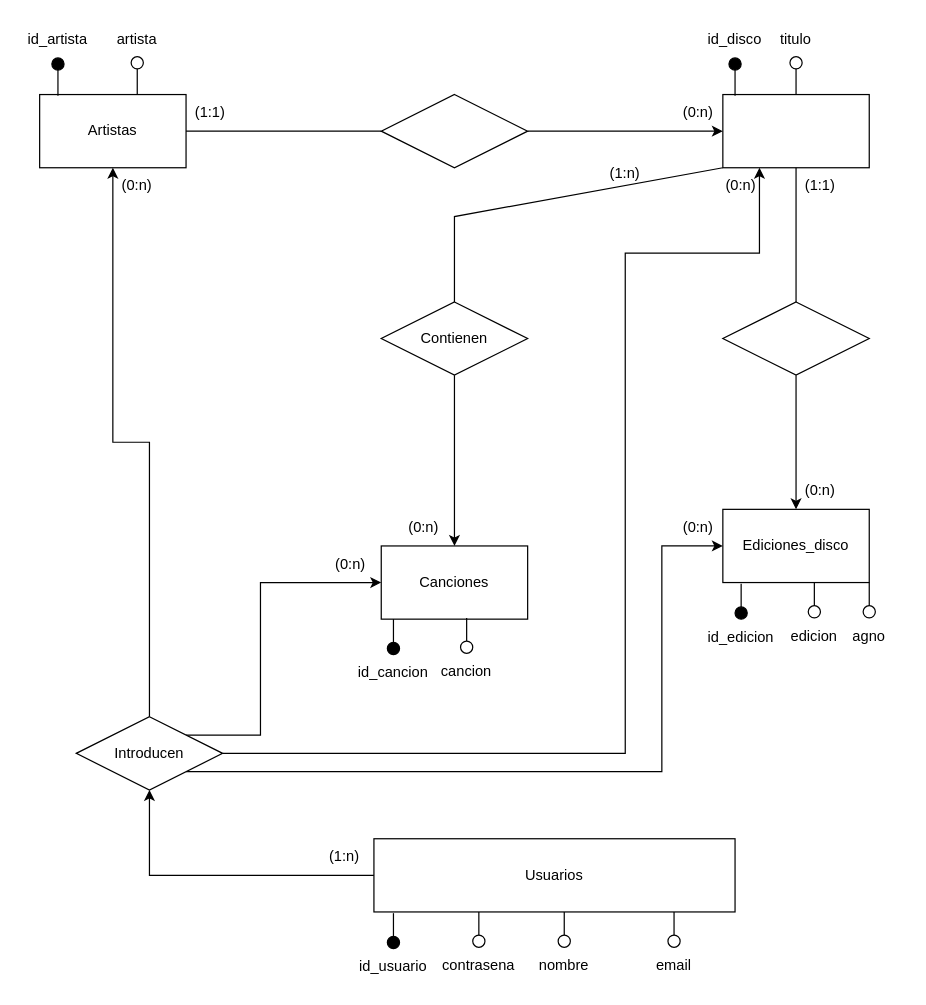
Some shapes in this 926 by 1005 pixel diagram are drawn without their labels. Here are the shapes that lost their labels. From the top down, the centre of each, then its label:
At point 454,130: "Producen".
At point 795,130: "Discos".
At point 795,338: "Tienen".
